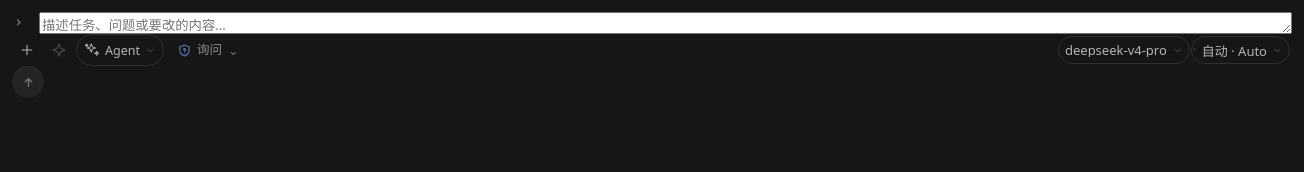
composer menus › dismisses completion when focus moves to a toolbar control
The width and height of the screenshot is (1304, 172).
Type "@" into the dropdown named "任务输入" at (666, 23), box [39,12,1292,34]
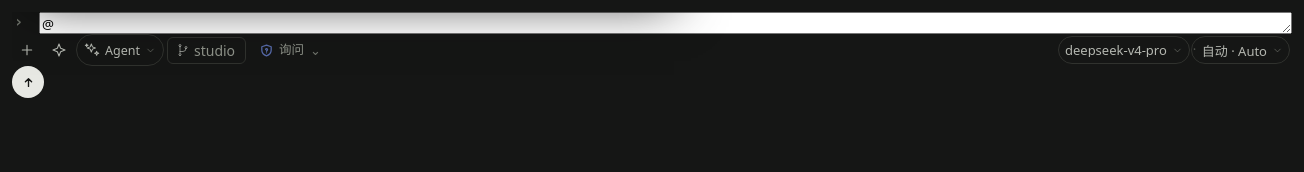
Leave the dropdown named "任务输入", box [39,12,1292,34]
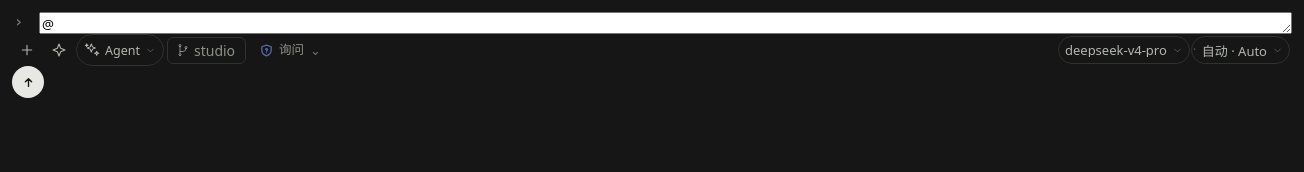
Expected: the list "补全" is gone
